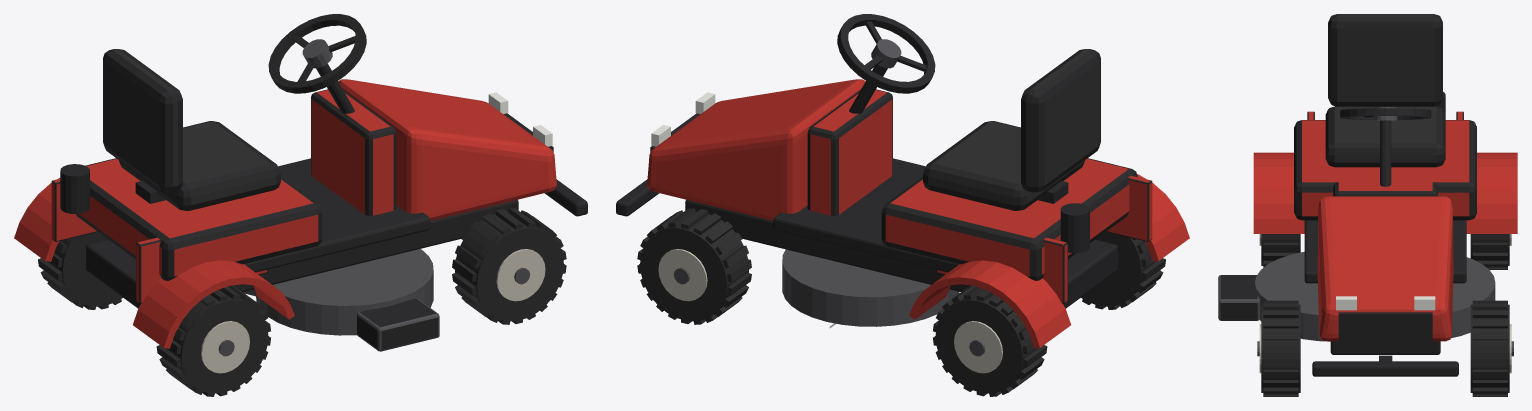
Rendered from teimoso.glb.
The picture shows the model from 3 angles, left to right: view 1: azimuth 30°, elevation 25°; view 2: azimuth 150°, elevation 25°; view 3: azimuth 270°, elevation 25°; orthographic projection. The views are drawn at different scales.
Visible parts, largest first — view 1: body, hood, trunk, wheel_fr_tire, wheel_rr_tire, wheel_fr_rim, wheel_rr_rim, wheel_rl_tire, wheel_rl_rim, bumper_front; view 2: body, hood, trunk, wheel_fl_tire, wheel_rl_tire, wheel_fl_rim, wheel_rl_rim, wheel_rr_tire, wheel_rr_rim, bumper_front; view 3: body, hood, trunk, wheel_fr_tire, wheel_fl_tire, bumper_front, wheel_rl_tire, wheel_rr_tire.
Boxes of the visible parts, x1,y1,x2,y2 form: body: (14, 14, 518, 348); hood: (338, 79, 556, 220); trunk: (243, 249, 439, 351); wheel_fr_tire: (452, 208, 566, 324); wheel_rr_tire: (156, 285, 270, 396); wheel_fr_rim: (480, 229, 560, 320); wheel_rr_rim: (185, 301, 264, 392); wheel_rl_tire: (38, 232, 122, 309); wheel_rl_rim: (66, 232, 112, 305); bumper_front: (544, 179, 587, 216); body: (685, 14, 1189, 348); hood: (647, 79, 865, 220); trunk: (782, 249, 959, 328); wheel_fl_tire: (637, 208, 751, 324); wheel_rl_tire: (933, 285, 1047, 396); wheel_fl_rim: (641, 232, 725, 316); wheel_rl_rim: (936, 304, 1021, 389); wheel_rr_tire: (1081, 234, 1165, 309); wheel_rr_rim: (1085, 232, 1139, 302); bumper_front: (616, 179, 659, 216); body: (1253, 14, 1517, 354); hood: (1317, 196, 1453, 342); trunk: (1218, 251, 1495, 341); wheel_fr_tire: (1261, 300, 1300, 396); wheel_fl_tire: (1470, 300, 1509, 396); bumper_front: (1312, 355, 1458, 376); wheel_rl_tire: (1470, 234, 1509, 269); wheel_rr_tire: (1261, 234, 1300, 267).
Size of the model in its own units: 1.79 by 1.03 by 1.14.
Materials: 5 (5 with a texture image).
